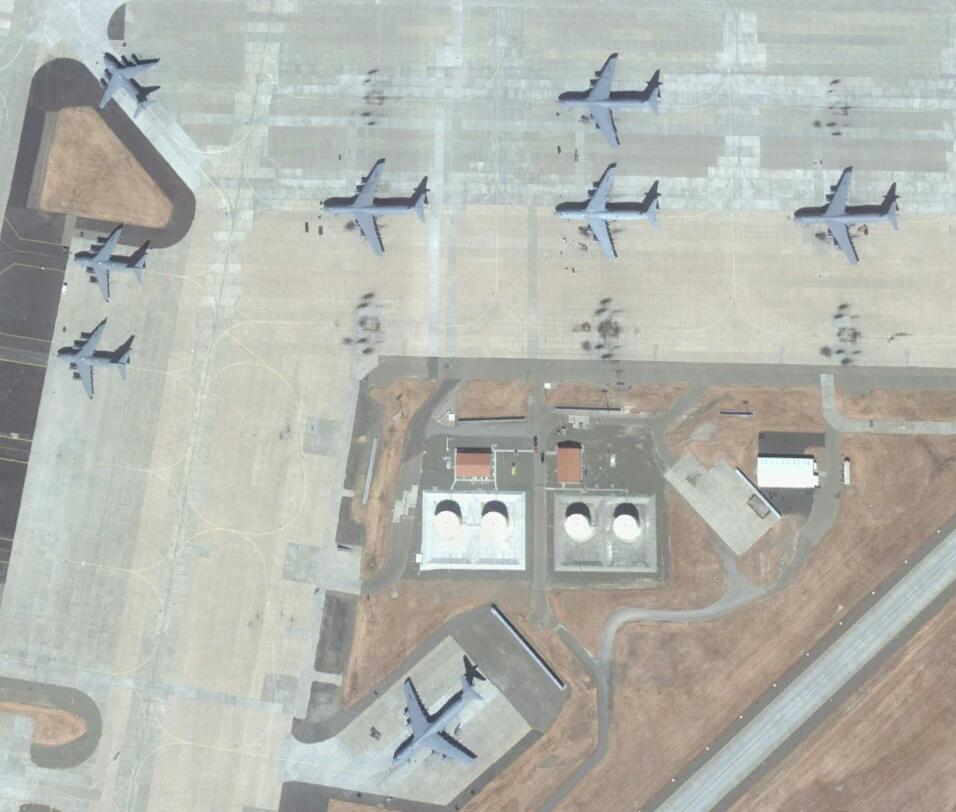A3: (56, 322, 135, 400), (74, 228, 151, 299), (97, 49, 164, 120)
A4: (796, 167, 903, 265), (327, 159, 428, 259), (559, 53, 661, 151), (560, 164, 661, 258), (392, 677, 490, 770)
